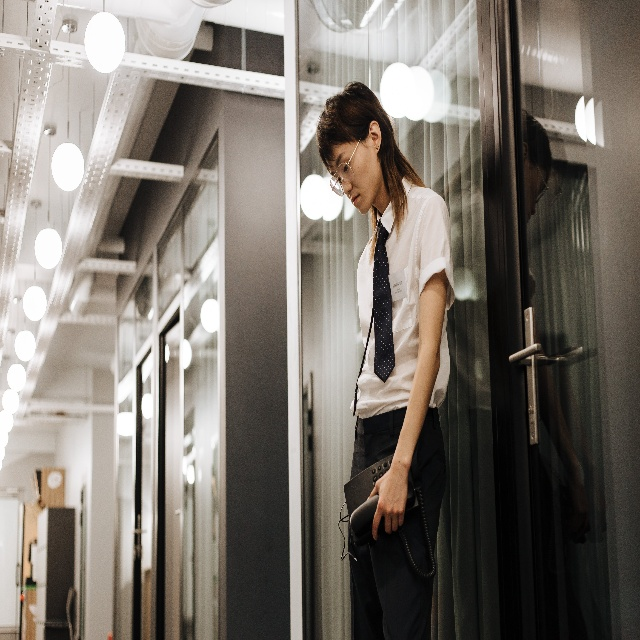Gafas: (328, 137, 362, 197)
Sin_guantes: (364, 466, 409, 543)
